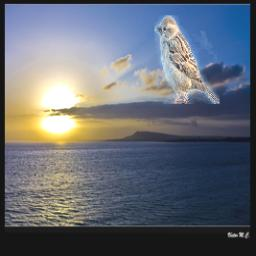Sparrow: (154, 16, 220, 105)
